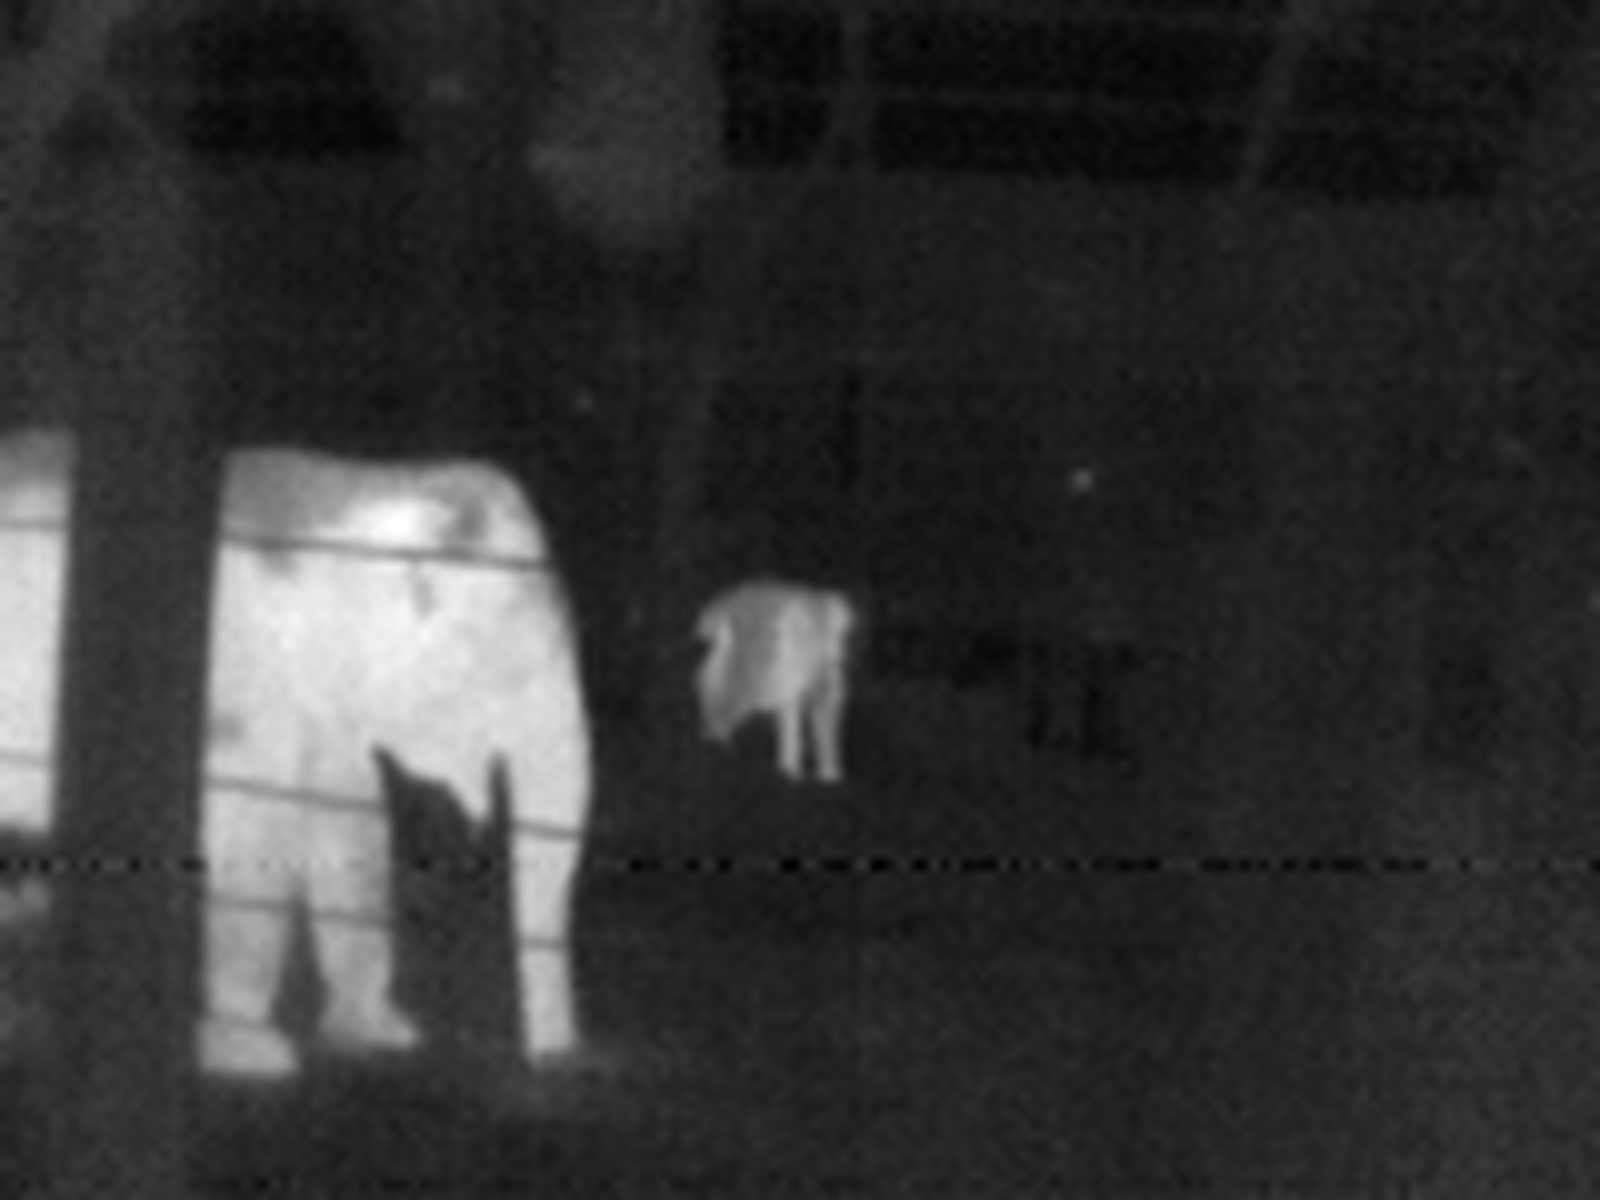elephant: (3, 389, 868, 1085)
